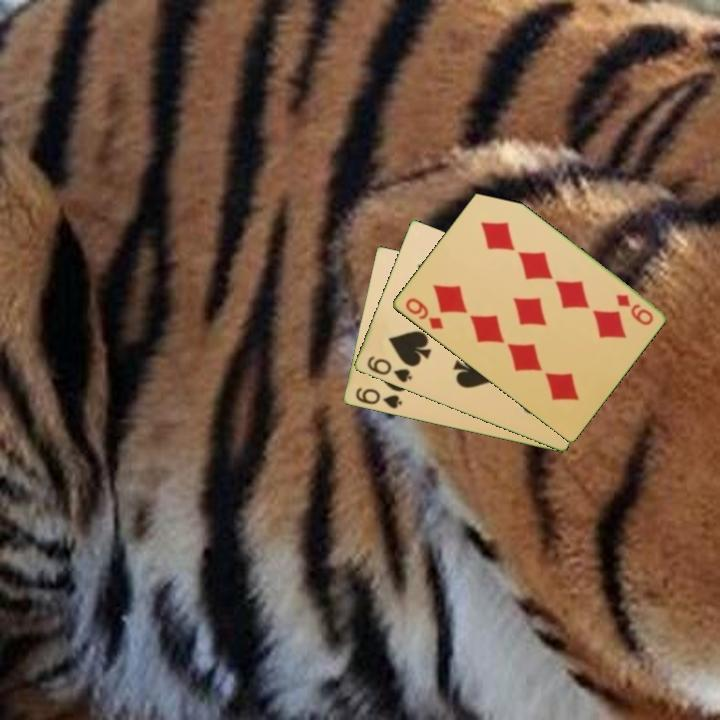6s: (363, 353, 415, 386), (352, 384, 404, 412)
9d: (401, 294, 446, 332), (612, 291, 656, 329)
